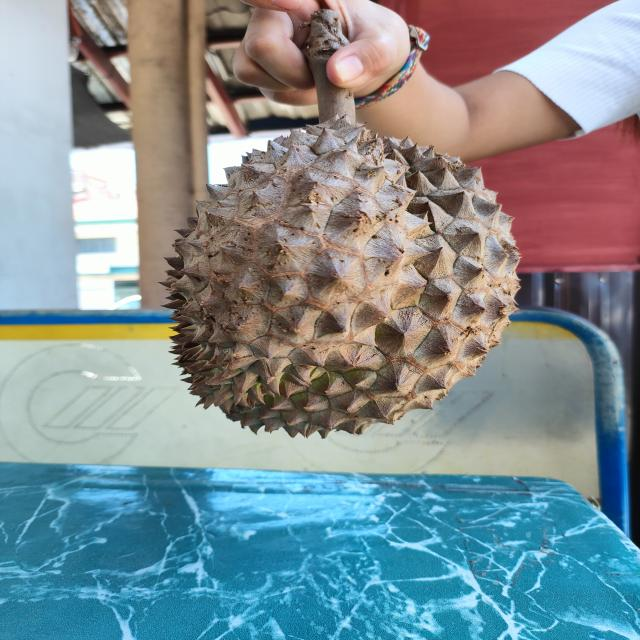mature: (163, 116, 521, 440)
